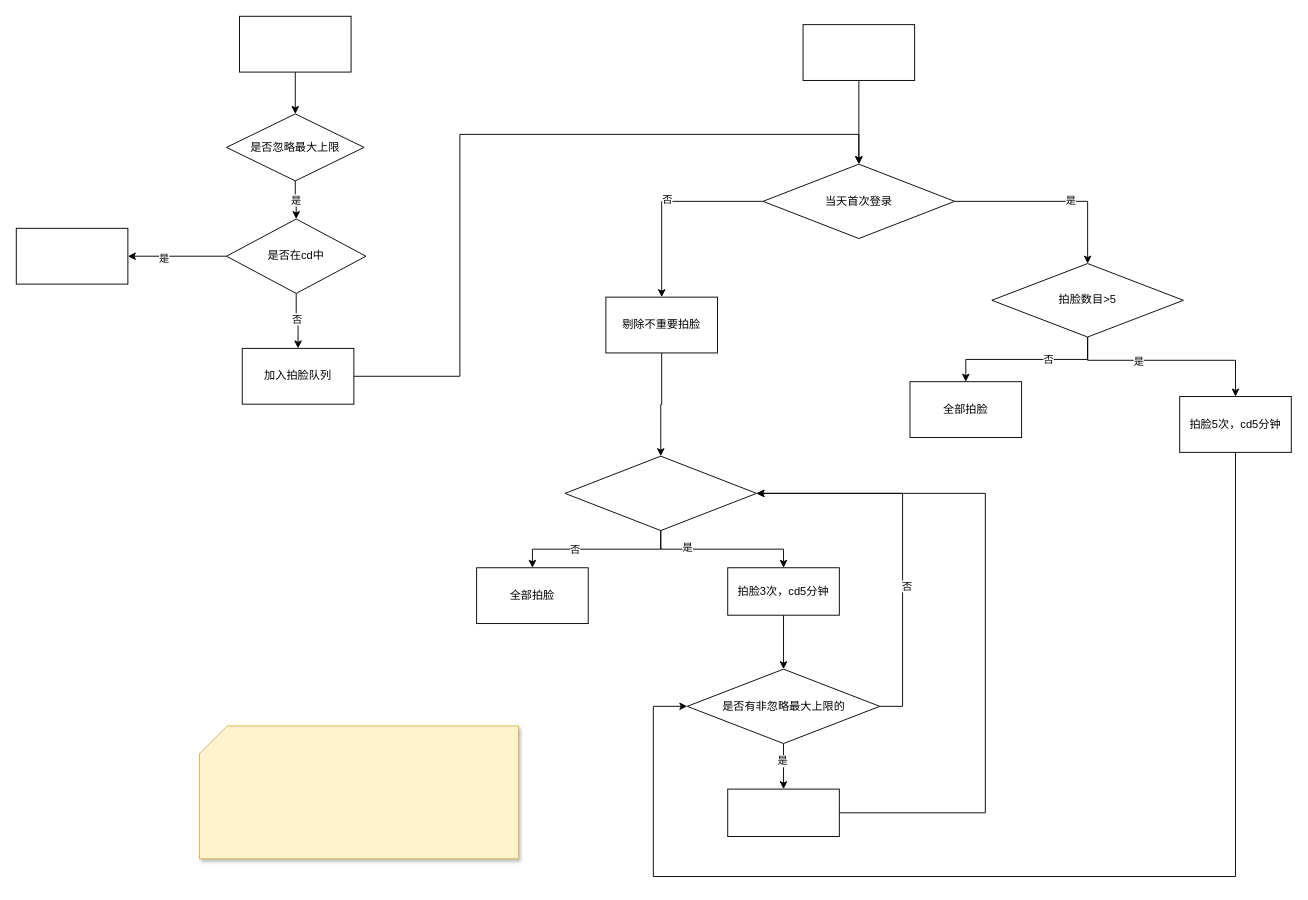
Some shapes in this 1308 by 900 pixel diagram are drawn without their labels. The shapes that lost their labels are listed below. From the top down, each one's centre as x and y in pixels, then its label:
At point 295,43: "游戏过程中触发拍脸".
At point 858,52: "登录游戏".
At point 71,255: "直接拍脸".
At point 660,493: "拍脸数目>3".
At point 359,793: "两个参数都是face_ui表中的 是否重要： faceui_queue字段 是否忽略最大上限：faceui_ignore字段".
At point 783,812: "剔除不可以忽略最大上限的拍脸".
